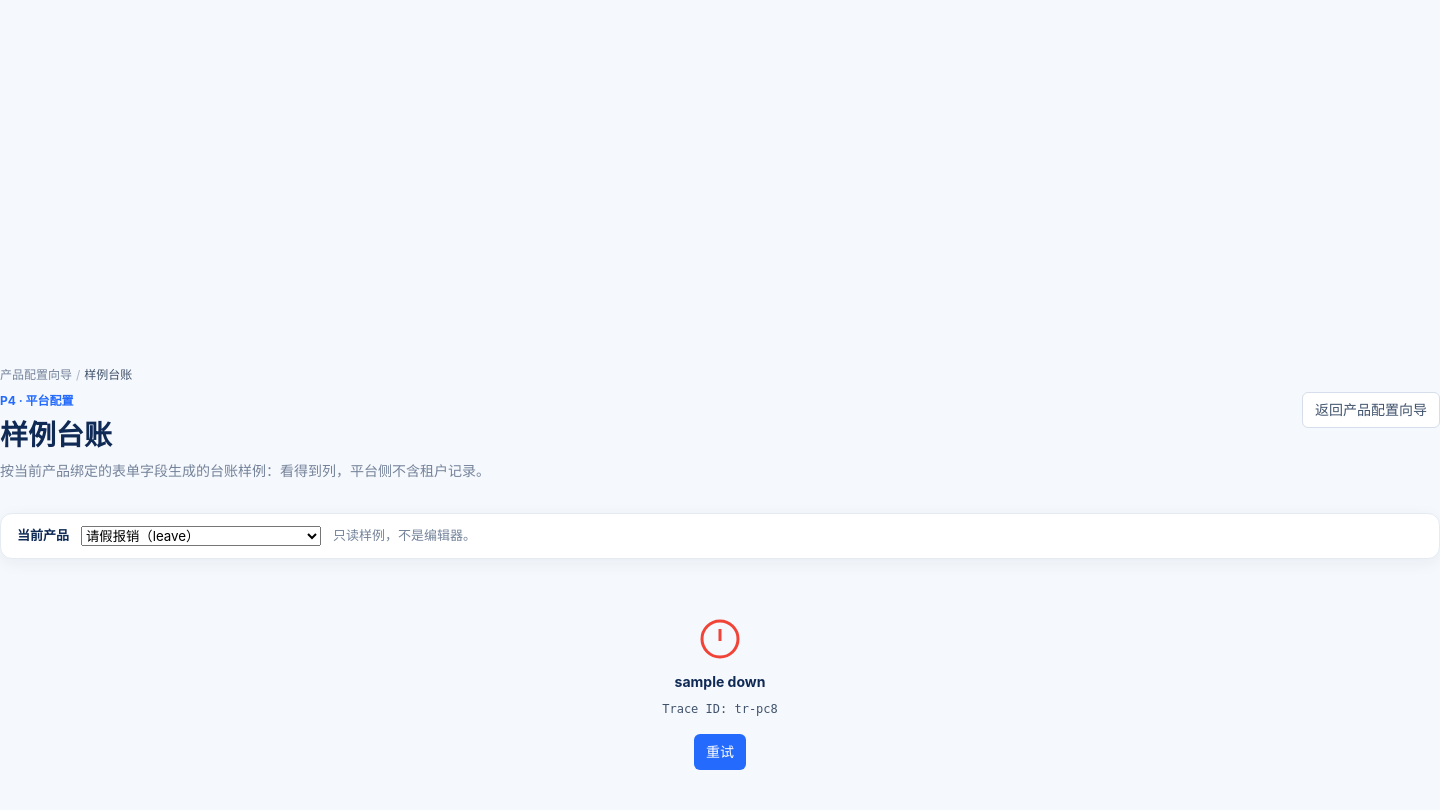
product sample ledger (PC8) › shows an empty state without products and an error with retry when the sample fails
(page scrolled)
Check: the message with test id "sample-read-error" shows "sample down", box [675,673,766,690]
What coordinates should you click on to do the following:
click the button "重试"
I would click on:
 (720, 752)
Its box is [694,734,746,770].
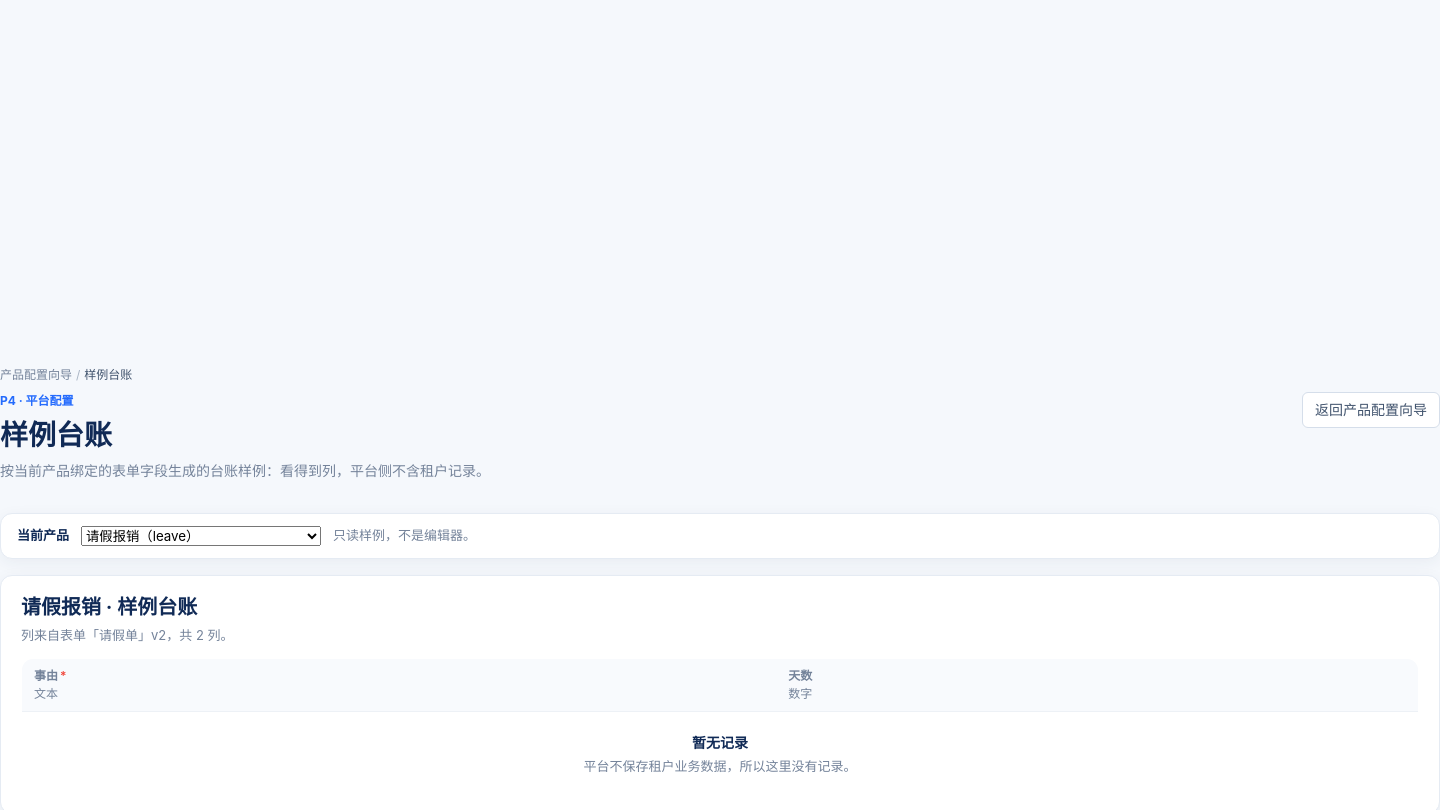
Check: the table with test id "sample-ledger-table" is shown, box [21,658,1419,797]
